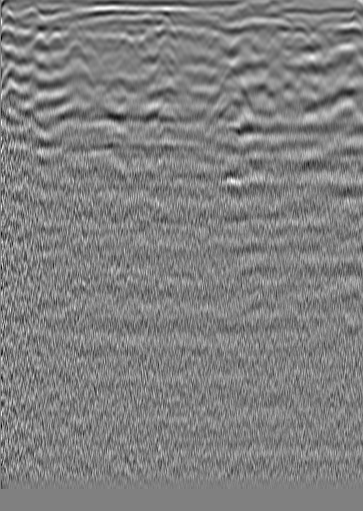가스: (205, 93, 258, 139)
상수: (302, 20, 322, 40)
오수: (30, 27, 50, 47)
우수: (153, 14, 173, 34)
